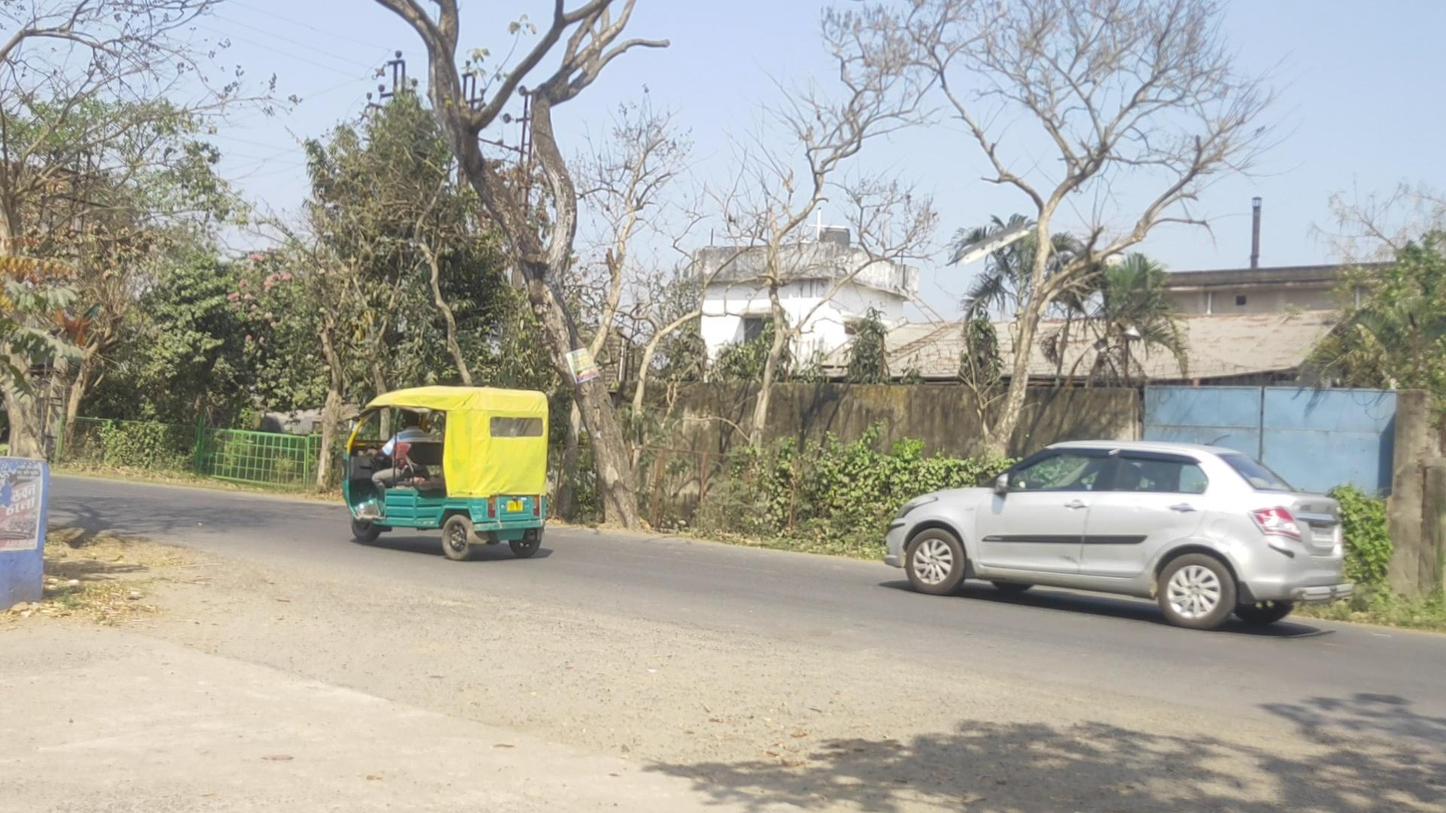Auto: (341, 385, 550, 562)
car: (884, 439, 1350, 631)
